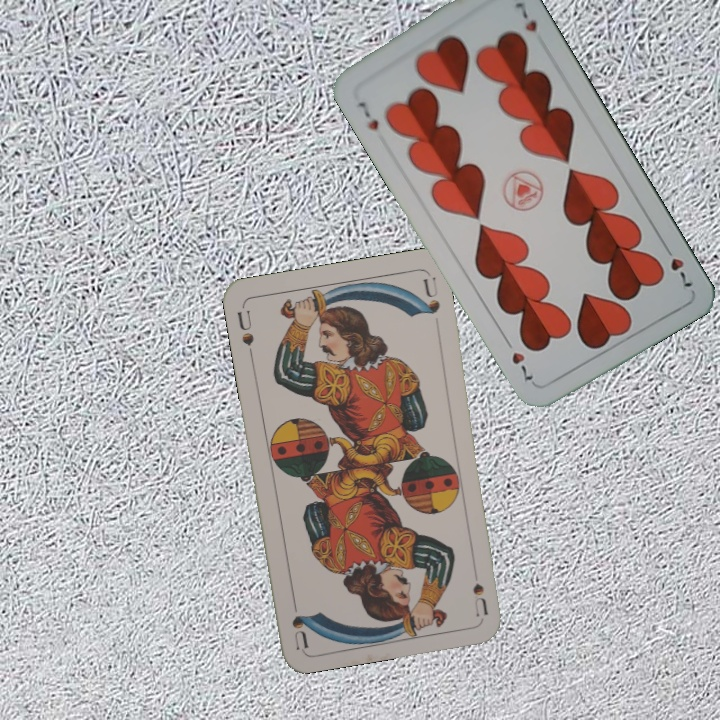H7: (659, 239, 695, 290), (351, 97, 382, 133)
SU: (233, 303, 257, 362), (468, 578, 490, 618)
